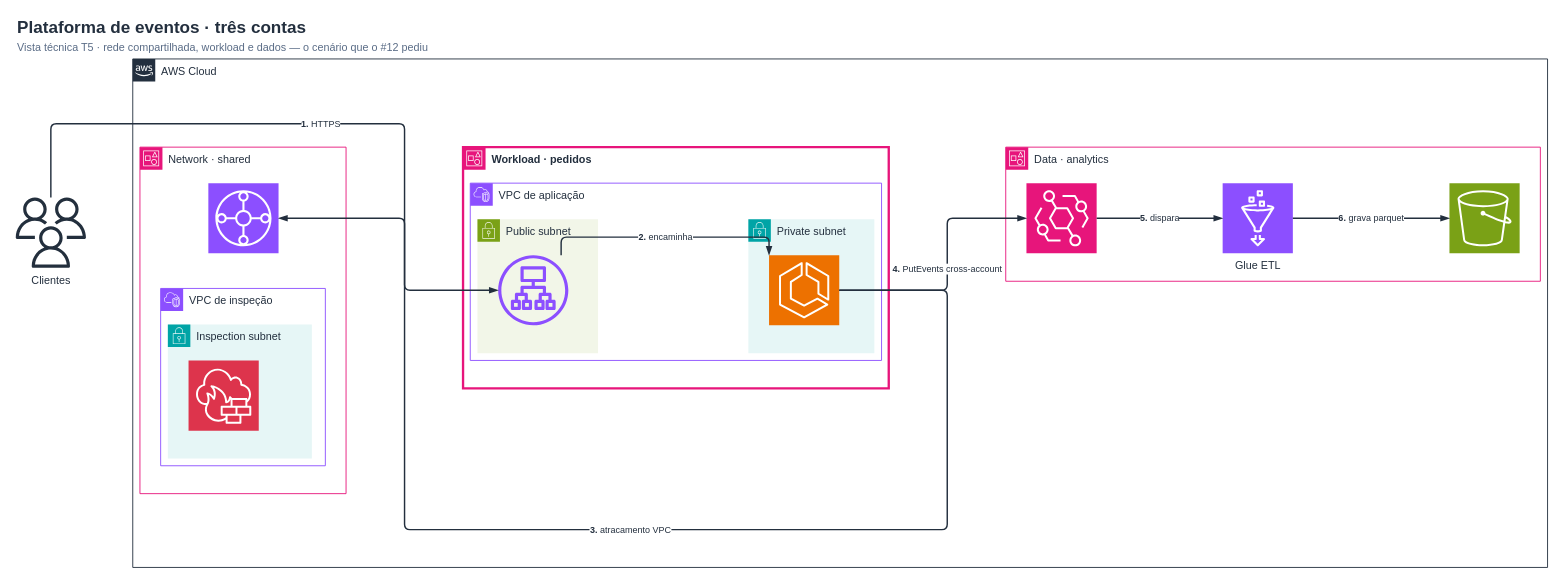
Some shapes in this 1563 by 583 pixel diagram are drawn without their labels. The shapes that lost their labels are listed below. From the top down, each one's centre as x and y in pixels, then its label:
the point at 243,217: Transit Gateway
the point at 1061,217: Event bus
the point at 1484,217: Data lake
the point at 533,290: ALB
the point at 803,289: ECS · pedidos
the point at 223,395: Network Firewall
